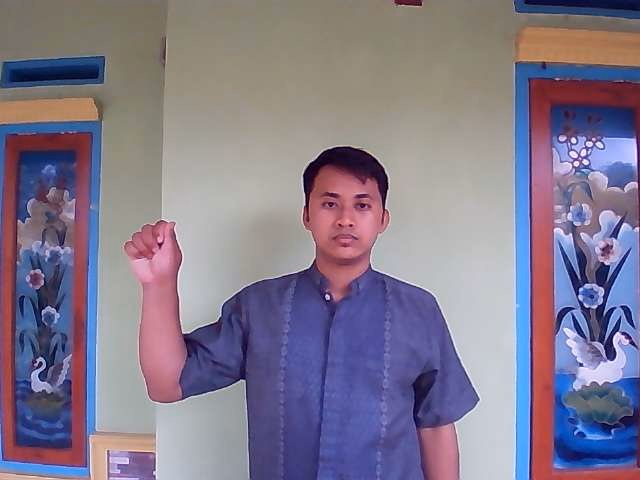A: (117, 214, 192, 298)
